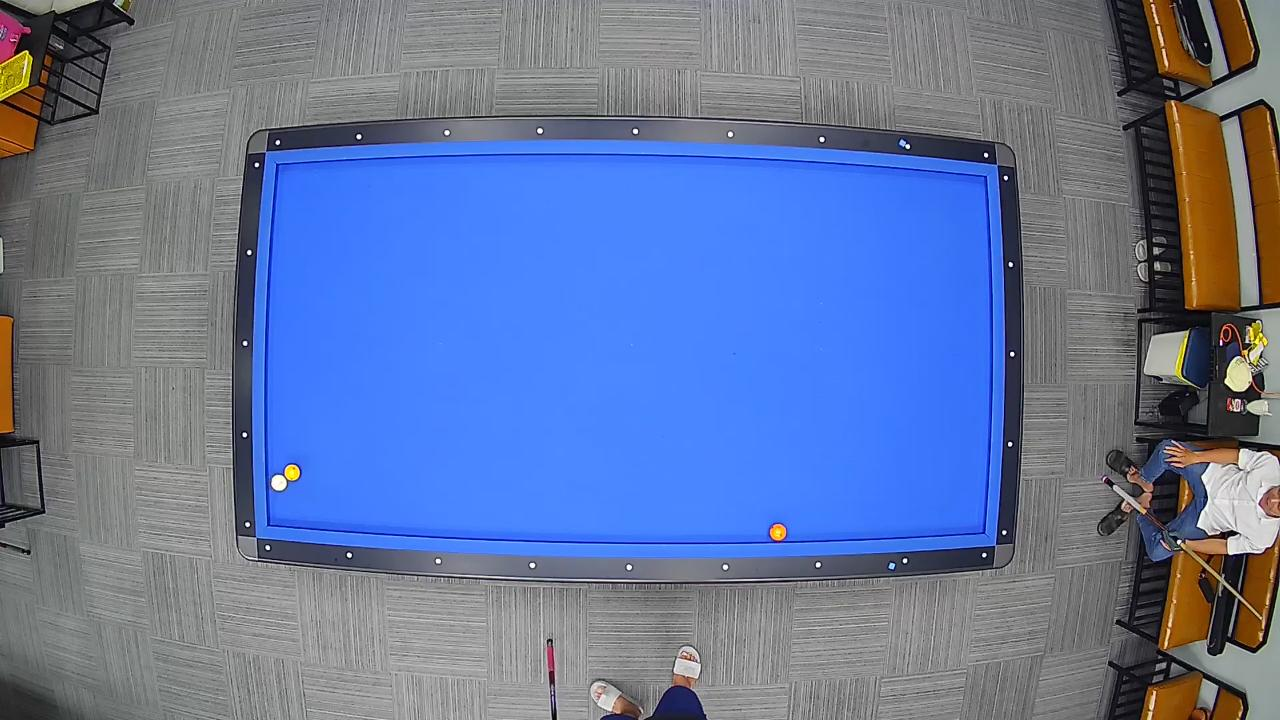Orange: (768, 522, 788, 543)
White: (270, 474, 288, 492)
Yellow: (284, 463, 302, 482)
